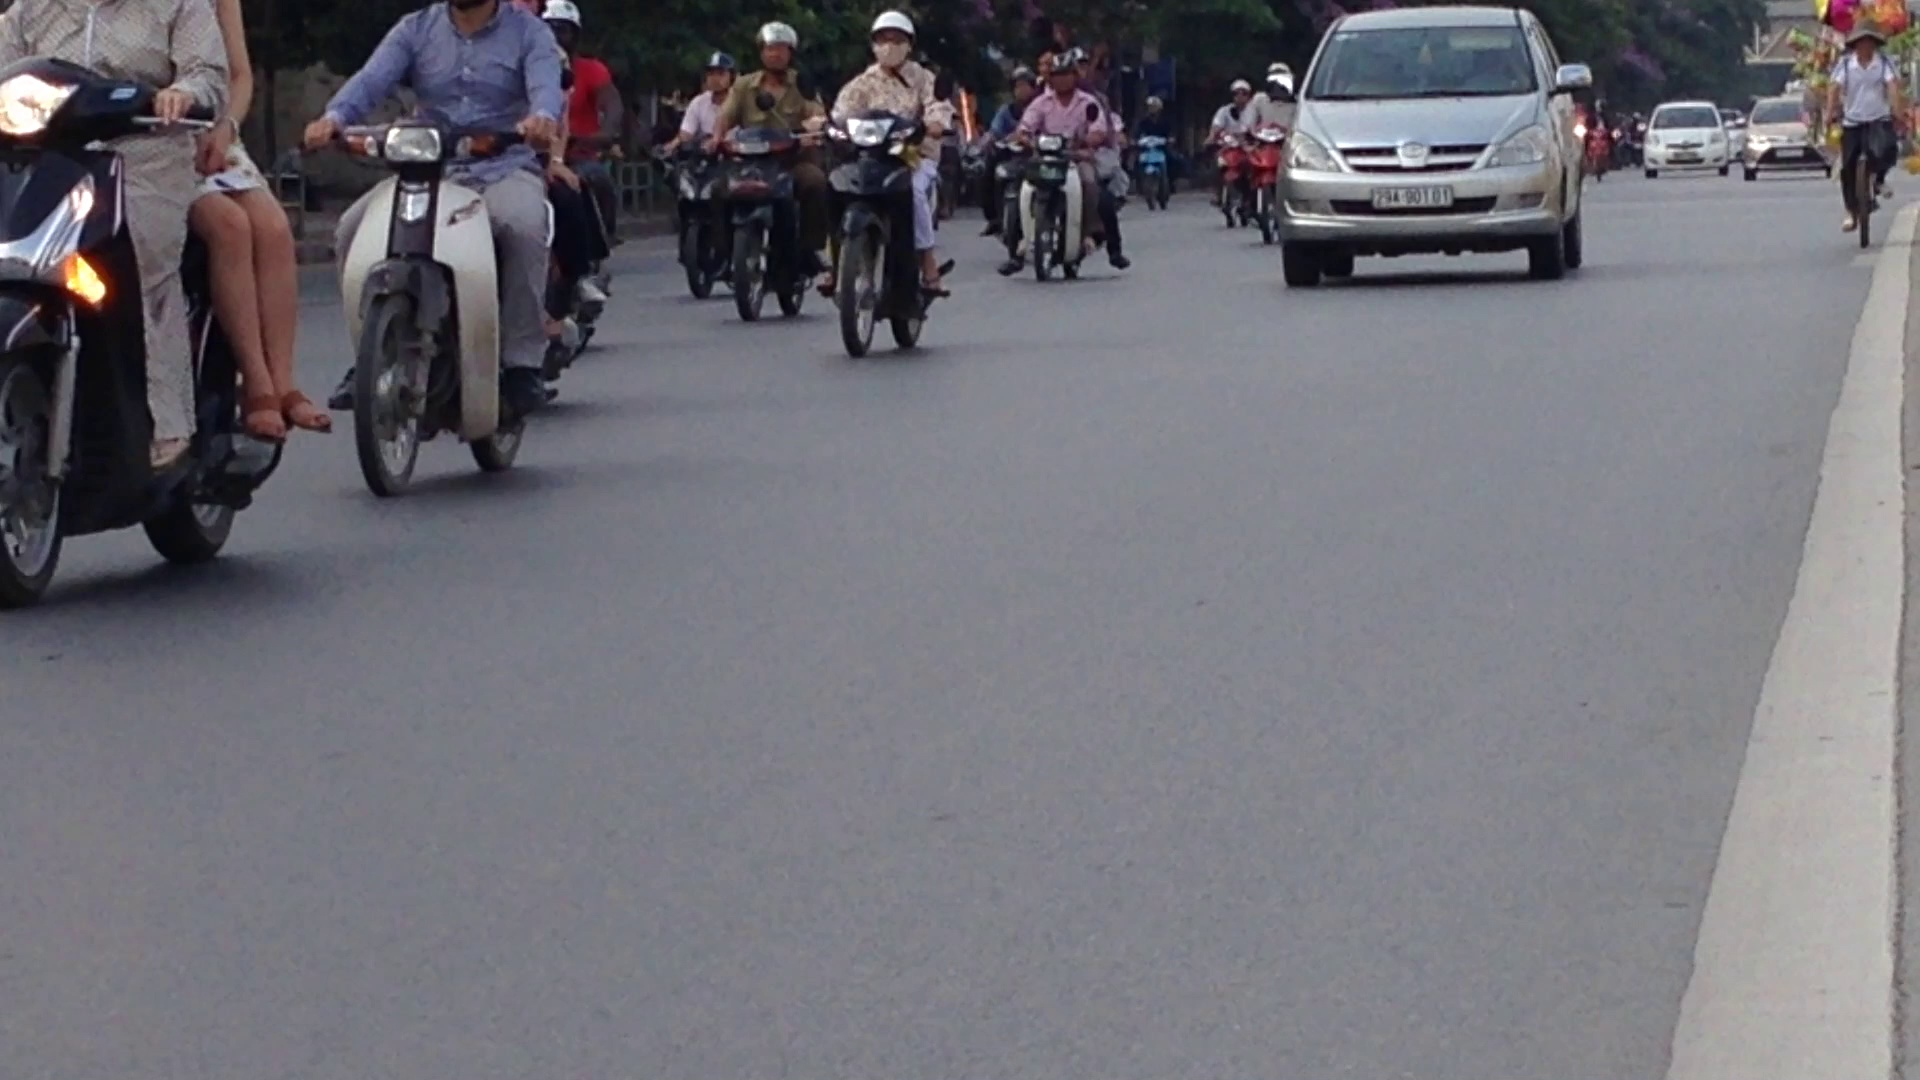person: (1366, 179, 1458, 214)
